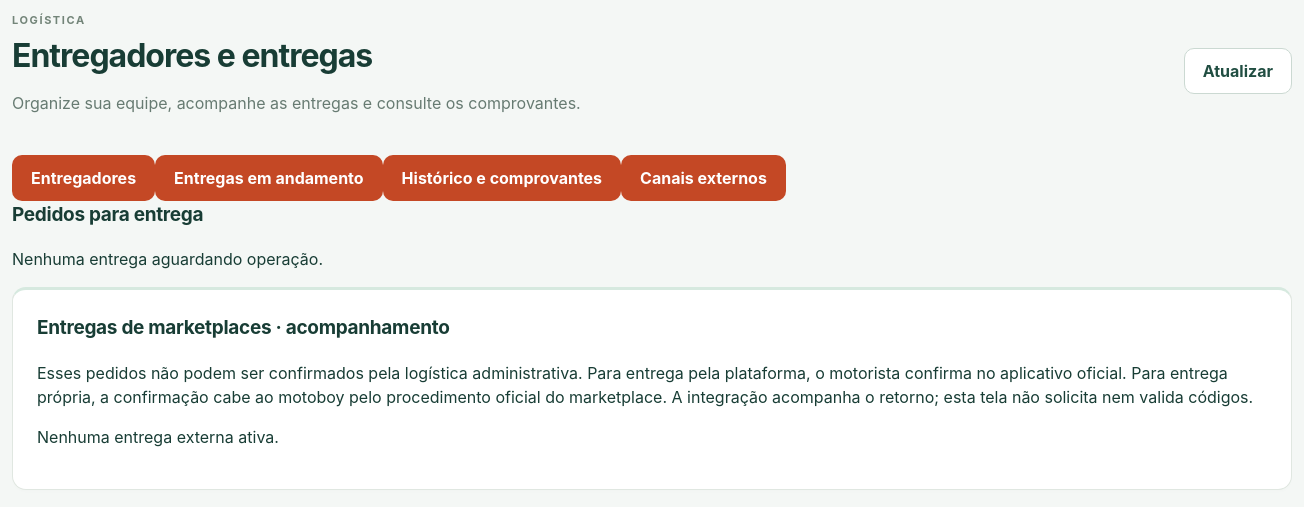
Test: external integration is visibly pending
expect the text "Nenhuma entrega aguardando operação." is shown: met, box left=12, top=249, right=323, bottom=269
Step 1. Click the tab "Canais externos" → click(704, 178), box left=621, top=155, right=786, bottom=201
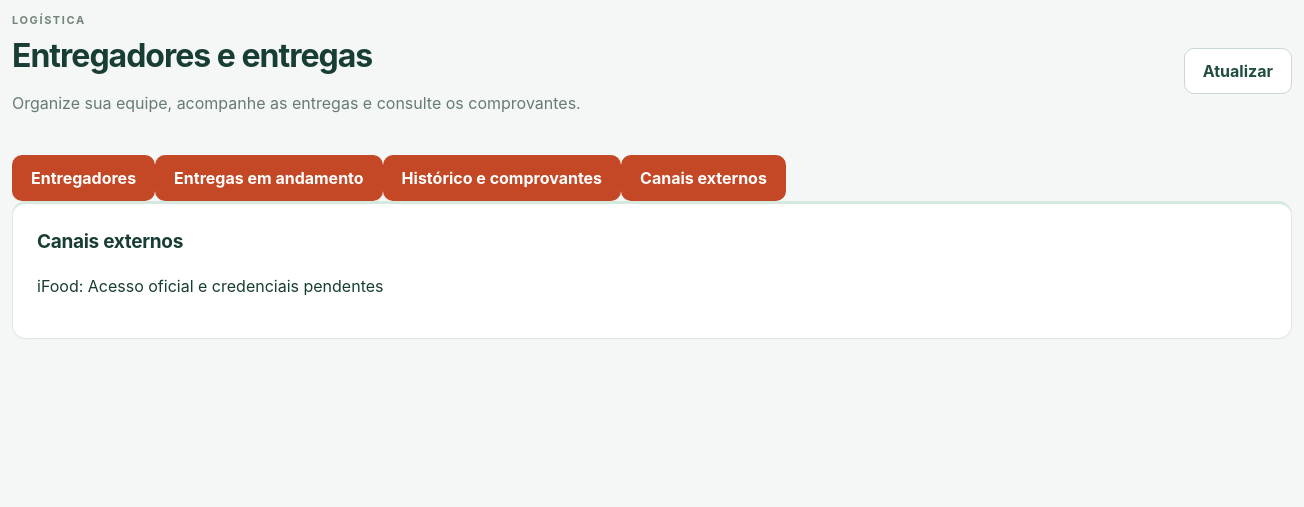
expect the text "iFood: Acesso oficial e credenciais pendentes" is shown: met, box left=37, top=276, right=384, bottom=296
